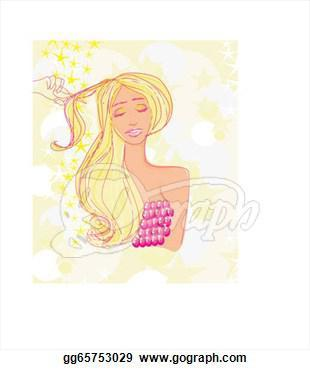person: (54, 68, 190, 253)
